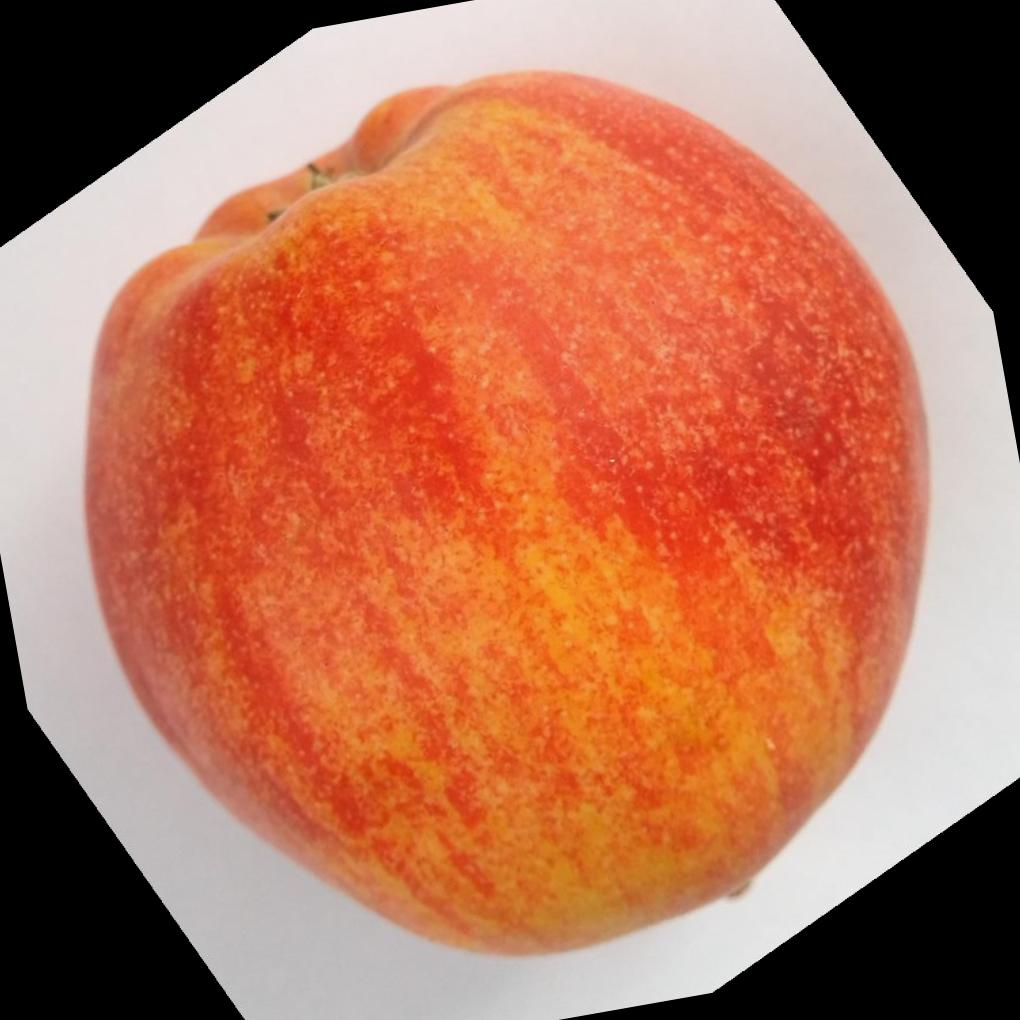FreshGuava: (83, 69, 935, 960)
